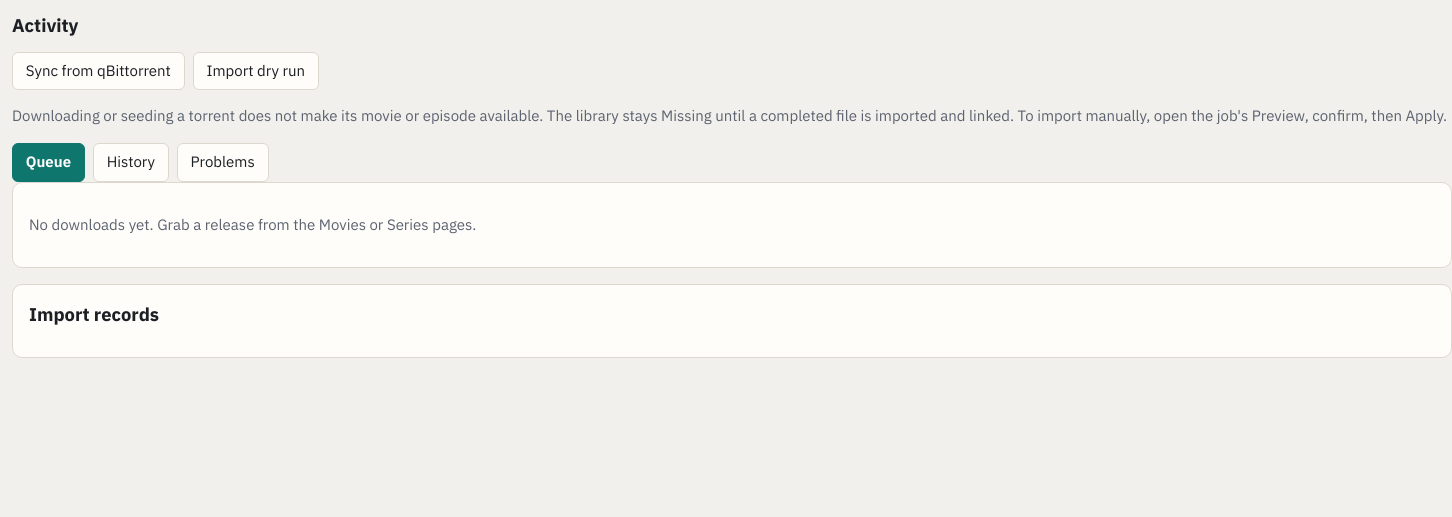
Test: activity › lists history and problems with safe actions
What coordinates should you click on to do the following:
click the button "History"
I would click on:
 (131, 162)
Its box is [93, 143, 169, 182].
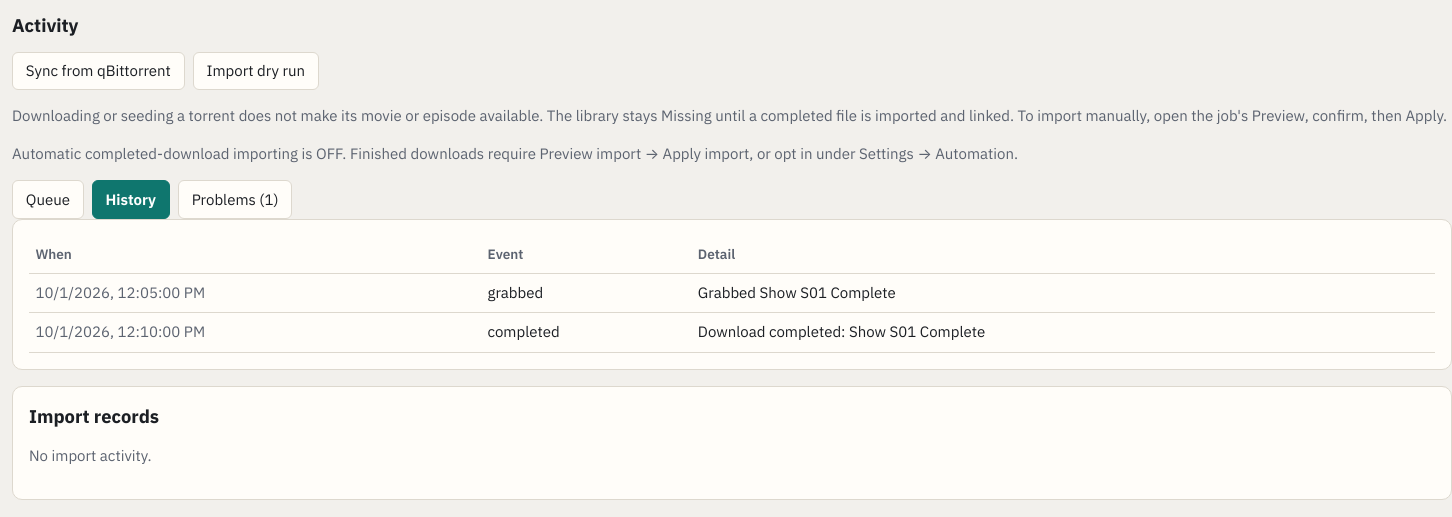
Now the text "Download completed: Show S01 Complete" is shown, box [691, 313, 1435, 352]
What coordinates should you click on to do the following:
click the button "Problems (1)"
I would click on:
 (235, 200)
Its box is [178, 180, 292, 219].
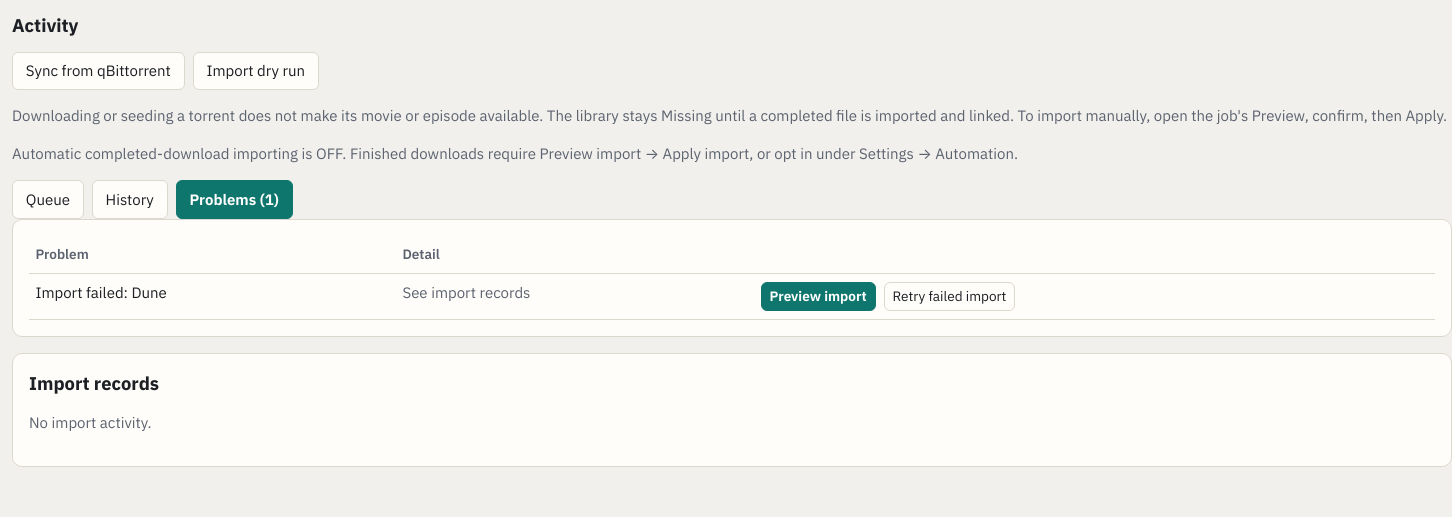
Now the text "Import failed: Dune" is shown, box [29, 273, 396, 319]
Now the button "Retry failed import" is shown, box [884, 282, 1015, 311]
